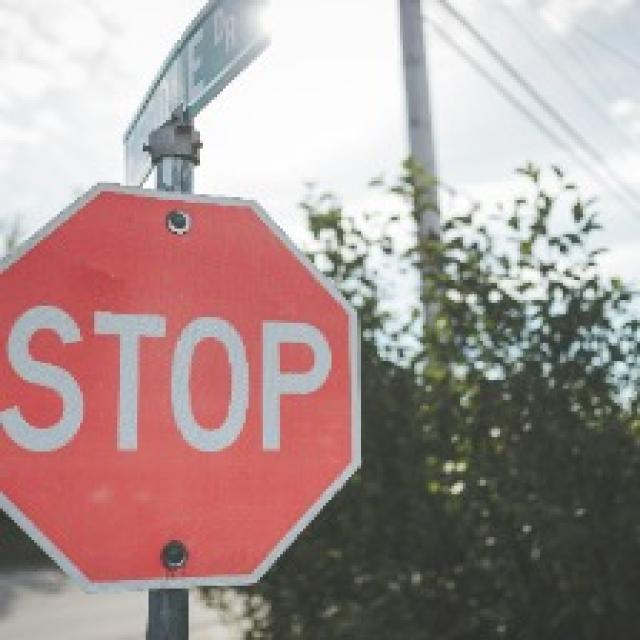stop: (0, 181, 363, 593)
